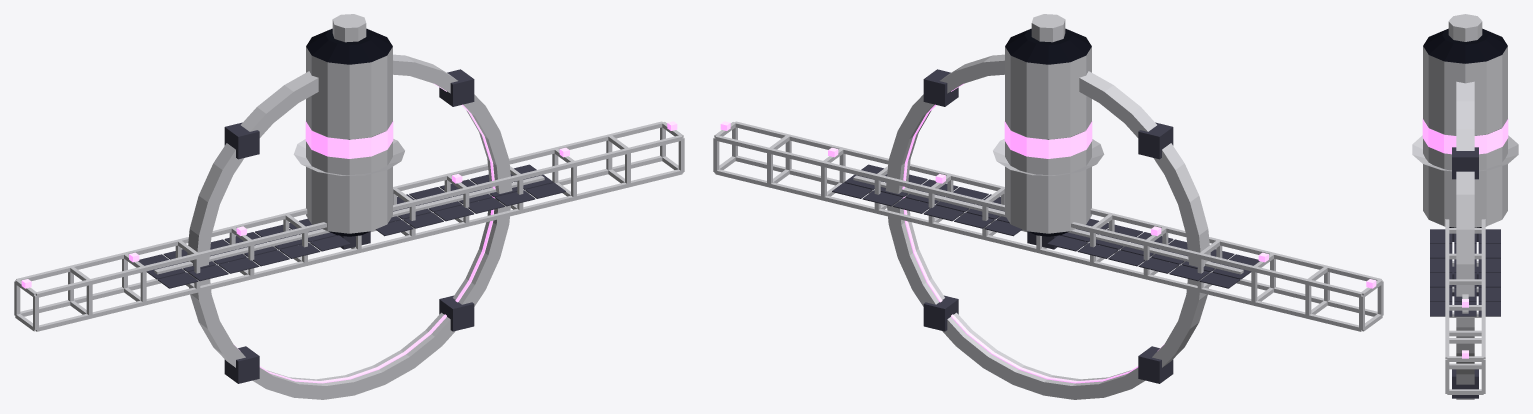
Rendered from props.glb.
The picture shows the model from 3 angles, left to right: view 1: azimuth 30°, elevation 25°; view 2: azimuth 150°, elevation 25°; view 3: azimuth 270°, elevation 25°; orthographic projection. The views are drawn at different scales.
Visible parts, largest first — view 1: rib_0, truss_0, module_0, solar_0, dish_0; view 2: rib_0, truss_0, module_0, solar_0, dish_0; view 3: module_0, rib_0, solar_0, truss_0, dish_0.
Boxes of the visible parts, bbox=[...] form: rib_0: bbox=[187, 54, 512, 399]; truss_0: bbox=[14, 121, 684, 331]; module_0: bbox=[305, 14, 393, 236]; solar_0: bbox=[138, 164, 565, 288]; dish_0: bbox=[293, 139, 404, 175]; rib_0: bbox=[885, 54, 1210, 399]; truss_0: bbox=[713, 121, 1383, 331]; module_0: bbox=[1004, 14, 1092, 236]; solar_0: bbox=[832, 164, 1259, 288]; dish_0: bbox=[993, 139, 1104, 175]; module_0: bbox=[1422, 14, 1508, 227]; rib_0: bbox=[1452, 81, 1478, 399]; solar_0: bbox=[1430, 229, 1500, 316]; truss_0: bbox=[1445, 219, 1485, 394]; dish_0: bbox=[1412, 135, 1518, 171].
Size of the model in its own units: 121 by 65.9 by 17.55.
